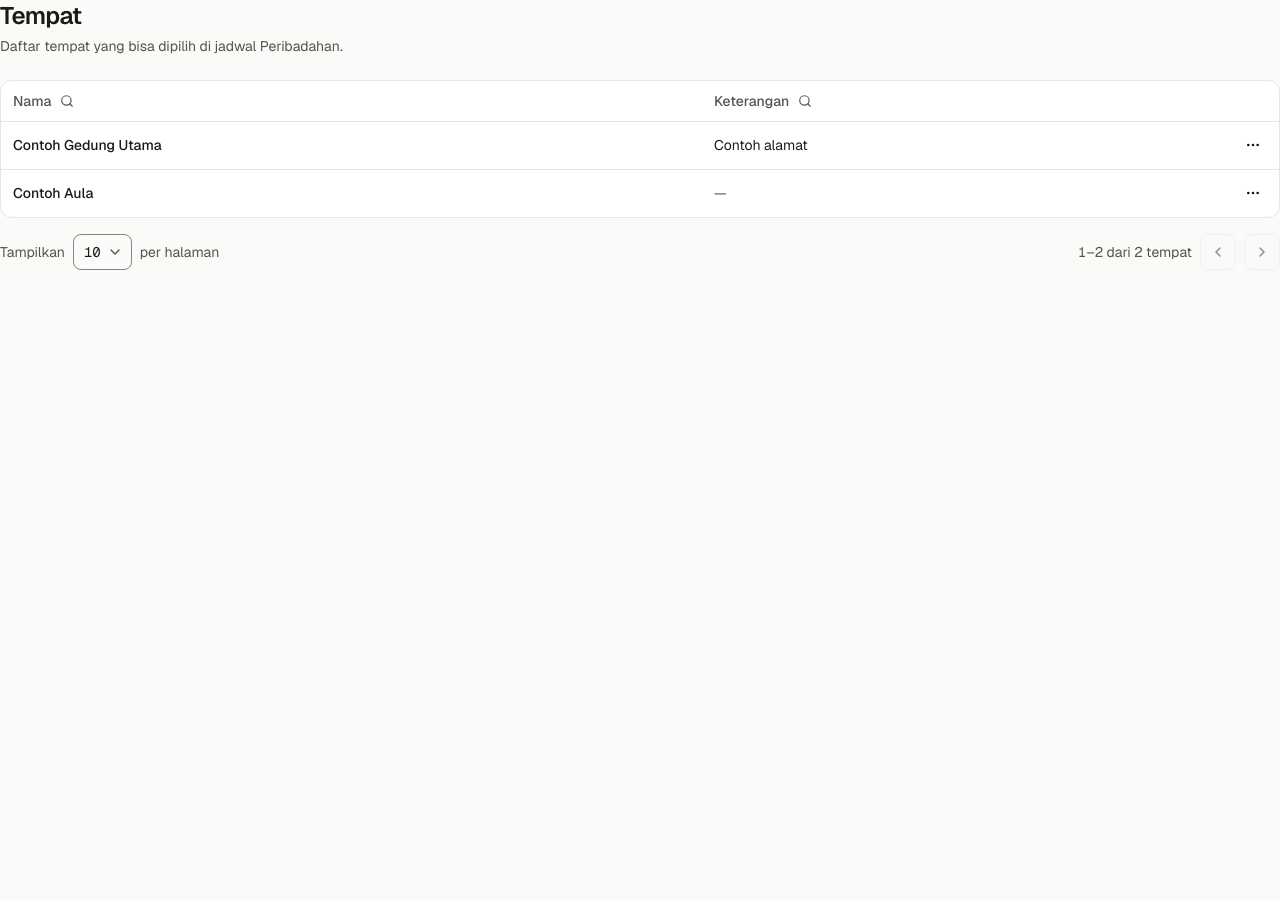
Test: MasterDataManager › is read-only without warta:update: no add, Lihat opens disabled fields, no Hapus
Click the button named "Aksi untuk Contoh Gedung Utama".
click(1253, 145)  # box top-left (1239, 131), bottom-right (1267, 159)
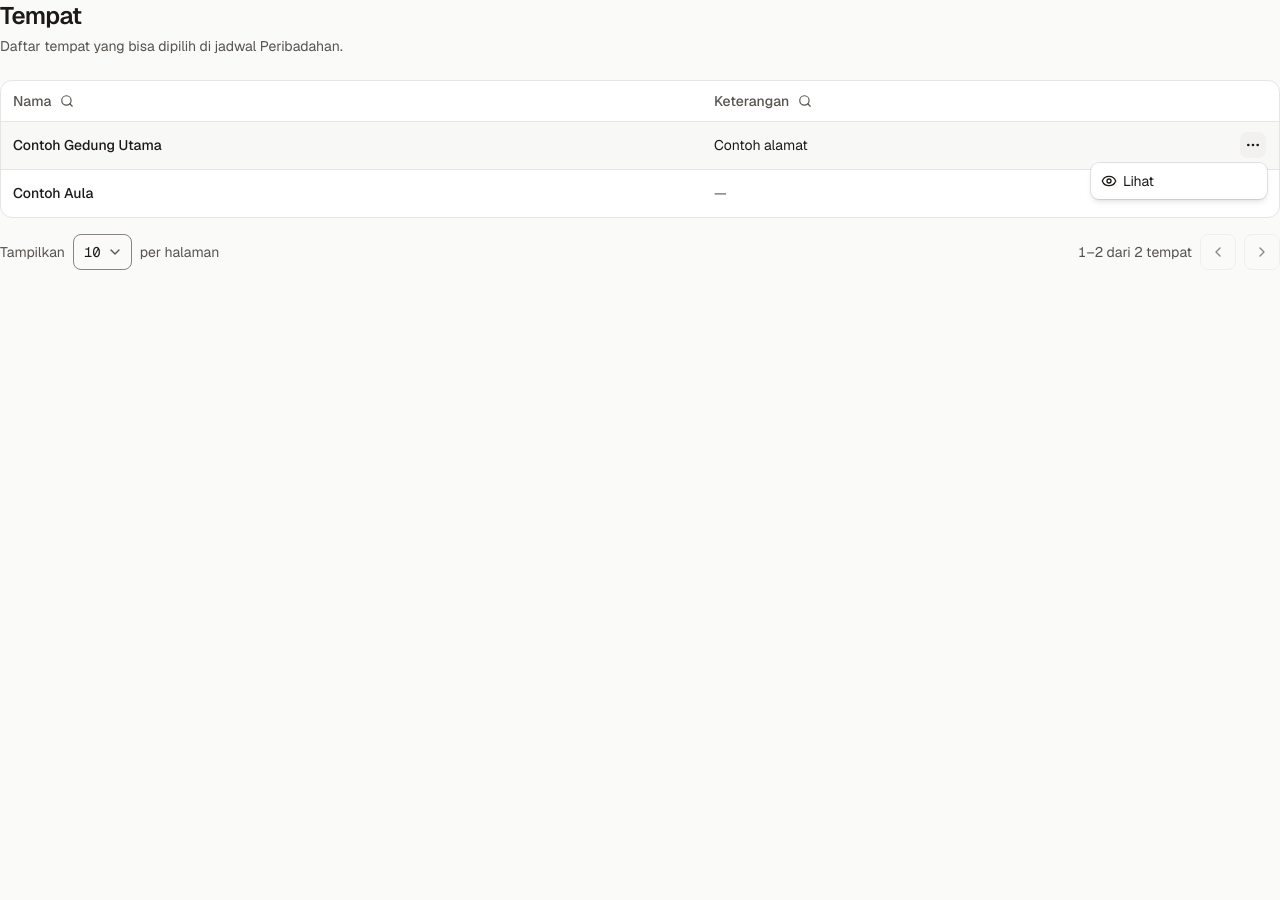
Click the menu item "Lihat".
click(1128, 181)  # box top-left (1101, 172), bottom-right (1154, 190)
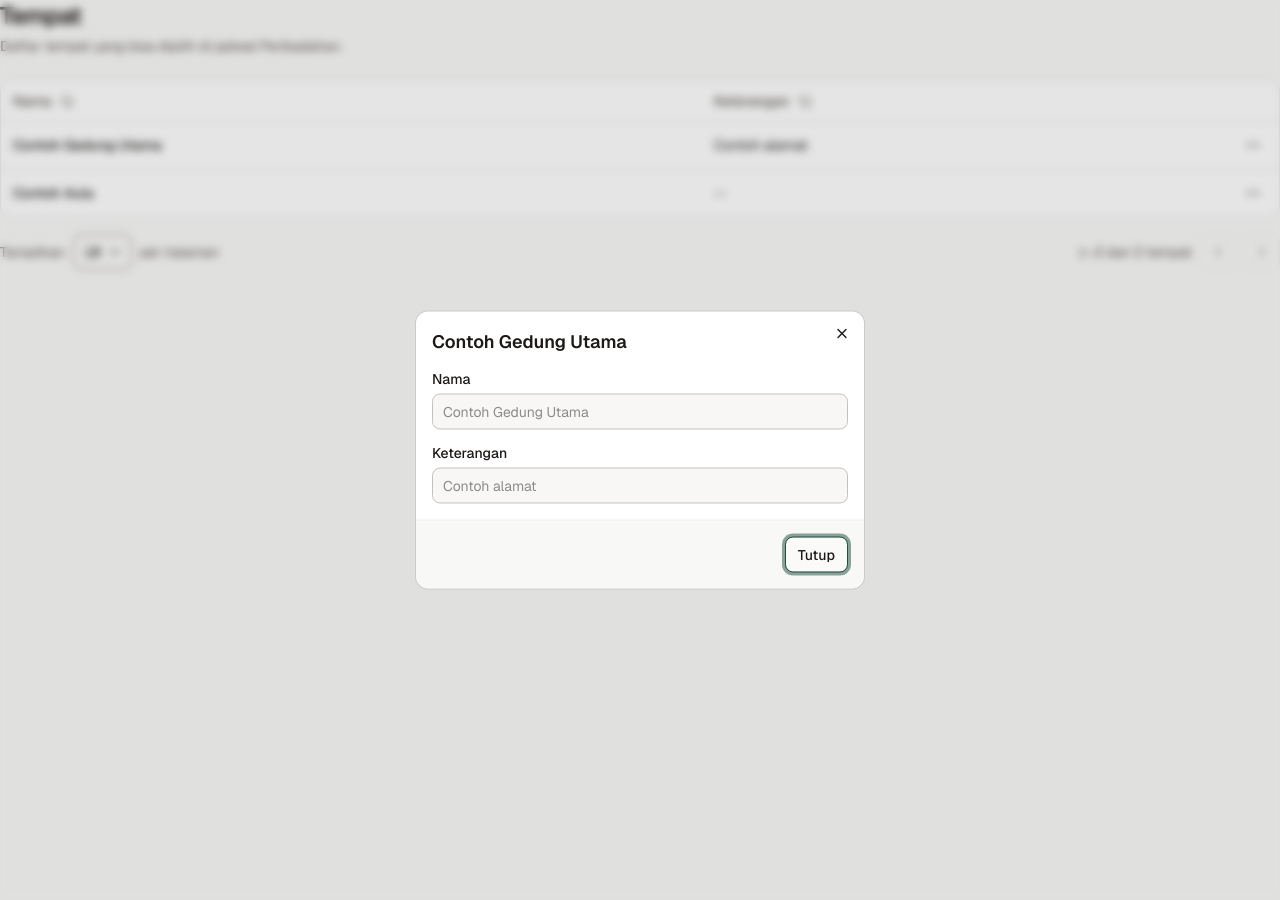
Expected: the field labelled "Nama" is disabled, top-left (432, 394), bottom-right (848, 430)
Expected: the field labelled "Keterangan" is disabled, top-left (432, 468), bottom-right (848, 504)
Expected: the button "Tutup" is shown, top-left (785, 536), bottom-right (848, 572)
